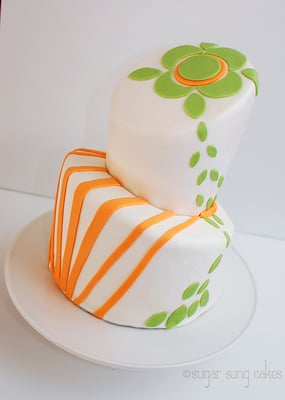sushi: (47, 37, 259, 333)
